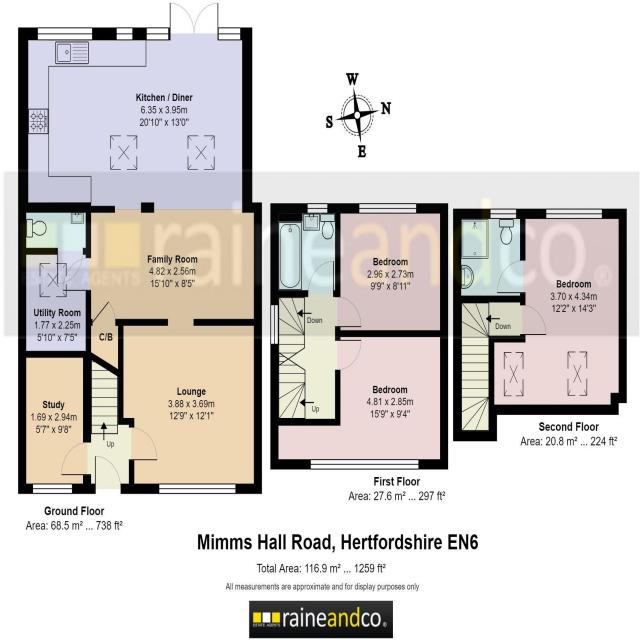DOOR: (307, 259, 335, 298), (496, 259, 526, 295), (62, 256, 92, 292), (94, 454, 121, 494), (61, 441, 91, 476), (129, 426, 159, 461), (334, 338, 362, 371), (334, 296, 362, 328), (520, 303, 547, 336)
DOUBLE DOOR: (169, 1, 221, 41)
ROOM: (17, 2, 253, 213), (488, 208, 627, 415), (117, 318, 263, 495), (61, 201, 262, 327), (270, 330, 449, 470), (334, 203, 449, 337)
WINDOW: (309, 458, 420, 471), (158, 483, 237, 495), (37, 27, 93, 41), (358, 202, 417, 215), (545, 208, 603, 220), (32, 483, 73, 495), (270, 303, 280, 346), (217, 27, 241, 41), (490, 208, 517, 220), (146, 27, 169, 41), (306, 202, 328, 215), (115, 27, 133, 41)
